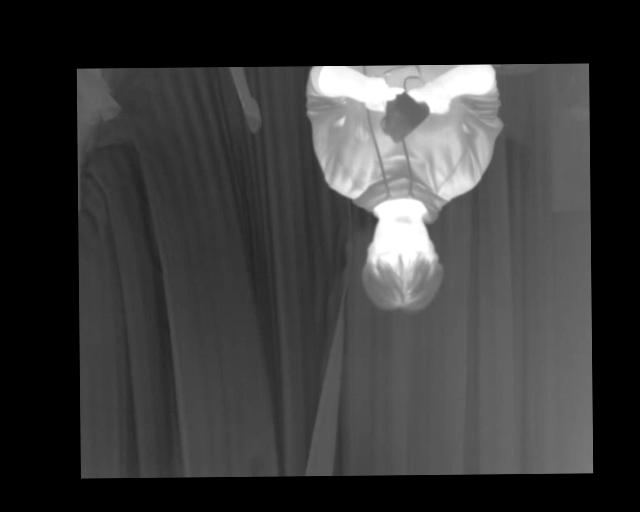face: (362, 206, 439, 311)
